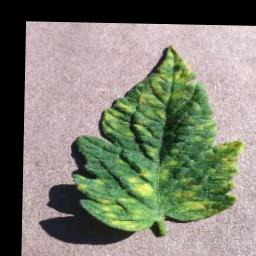Leaf_Mold: (72, 43, 245, 234)
